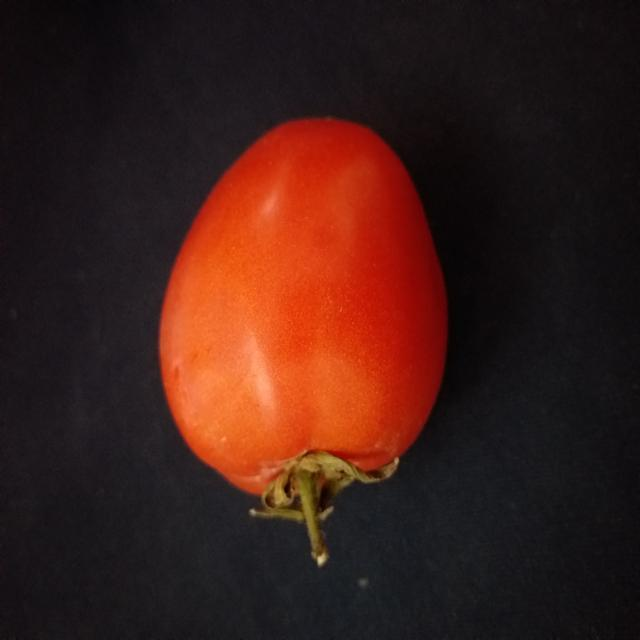tomato: (128, 66, 465, 544)
